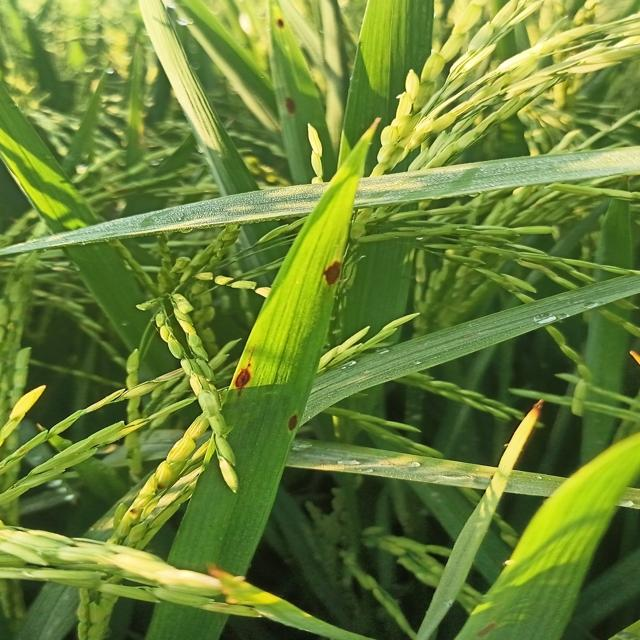insects: (225, 343, 264, 404), (320, 254, 342, 291), (281, 405, 305, 437), (527, 394, 553, 418), (280, 89, 300, 118), (270, 10, 290, 36)
